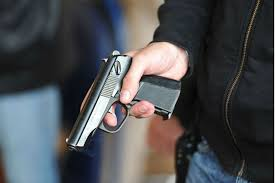gun: (63, 48, 183, 155)
